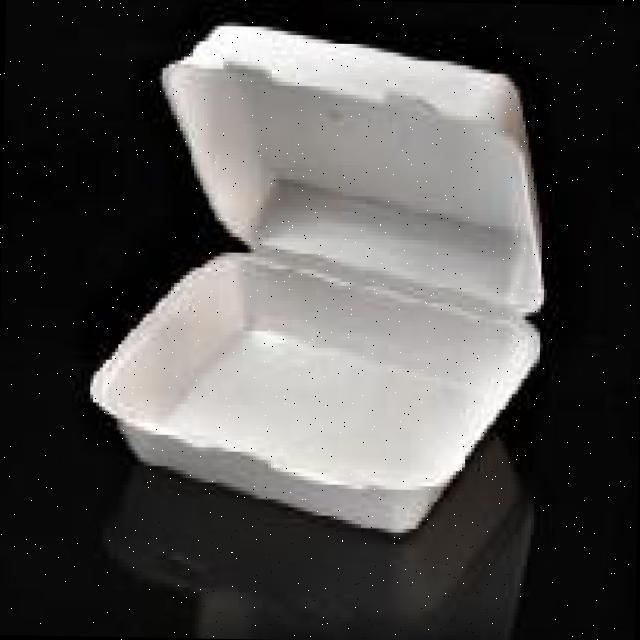styrofoam: (84, 16, 552, 538)
